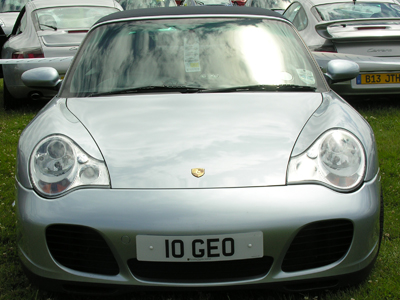licencePlate: (136, 231, 262, 260)
